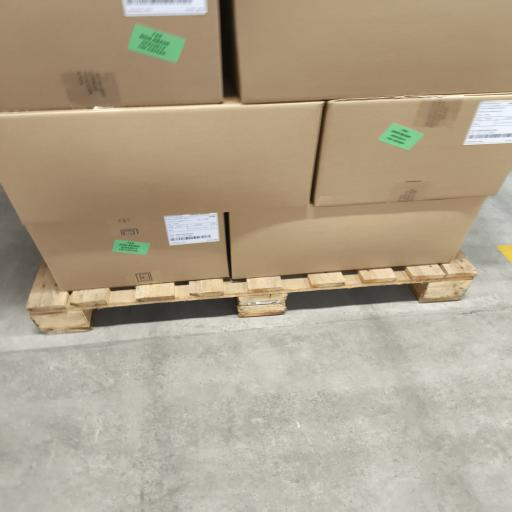pallet: (27, 252, 476, 333)
